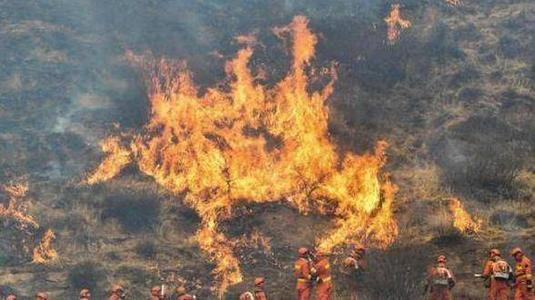fire: (93, 18, 393, 256), (202, 245, 239, 290), (6, 184, 33, 227), (383, 3, 408, 41), (451, 203, 479, 234), (32, 231, 56, 263)
